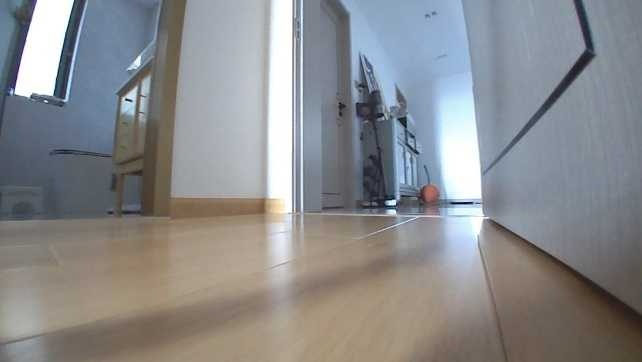door_anno: (316, 0, 351, 210)
door_sill: (296, 210, 485, 220), (0, 214, 170, 225)
toilet: (43, 146, 117, 215)
washstand: (108, 55, 155, 214)
